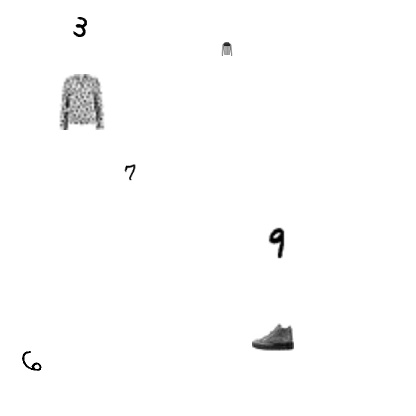3: (67, 13, 95, 41)
6: (16, 349, 44, 377)
7: (119, 159, 141, 181)
9: (257, 219, 299, 261)
Ankle_boot: (252, 316, 294, 358)
Coat: (220, 42, 234, 56)
Shirt: (54, 74, 110, 130)
